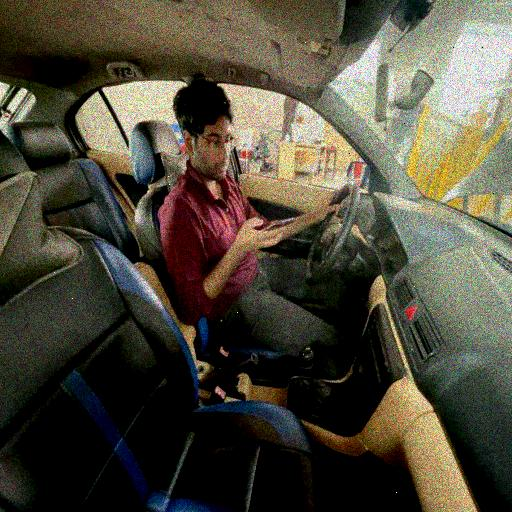Texting_on_phone: (157, 79, 340, 359)
